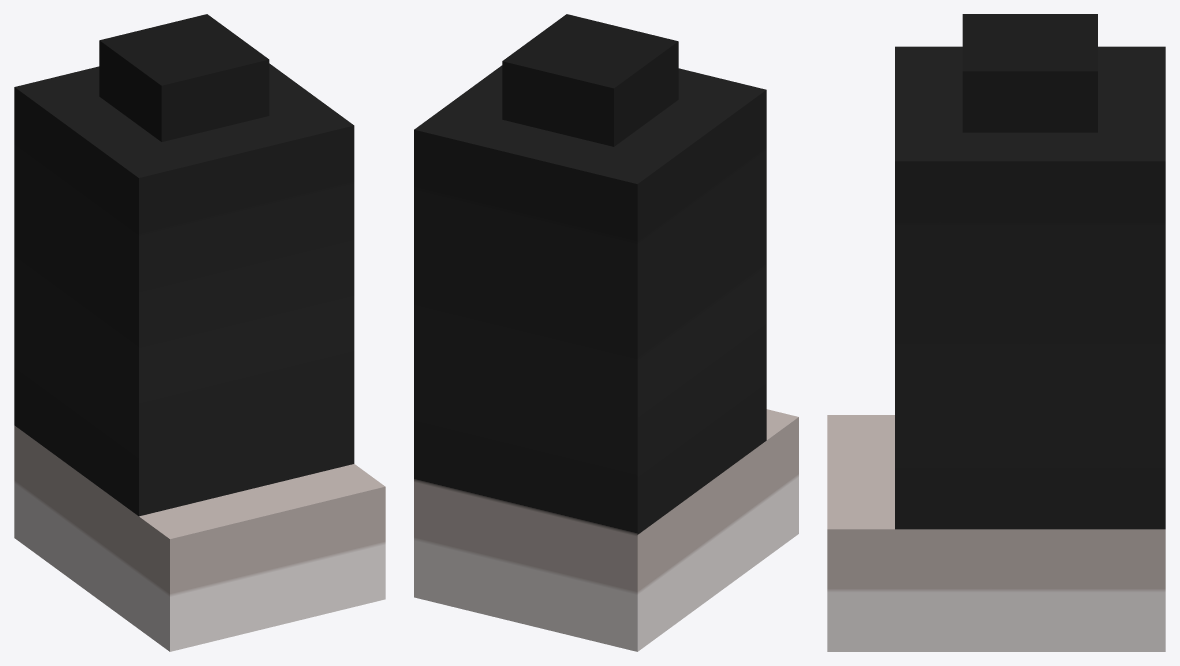
File: Knee056.fbx
3 renders of one model, left to right at view 1: azimuth 30°, elevation 25°; view 2: azimuth 150°, elevation 25°; view 3: azimuth 270°, elevation 25°, orthographic. The views are drawn at different scales.
Visible parts, largest first — view 1: Knee056; view 2: Knee056; view 3: Knee056.
Part boxes in pixels (x1,y1,x2,y2): Knee056: (14,14,385,651); Knee056: (414,14,798,651); Knee056: (827,14,1165,651).
Bounding box in the file's own units: 4 × 9 × 5.
